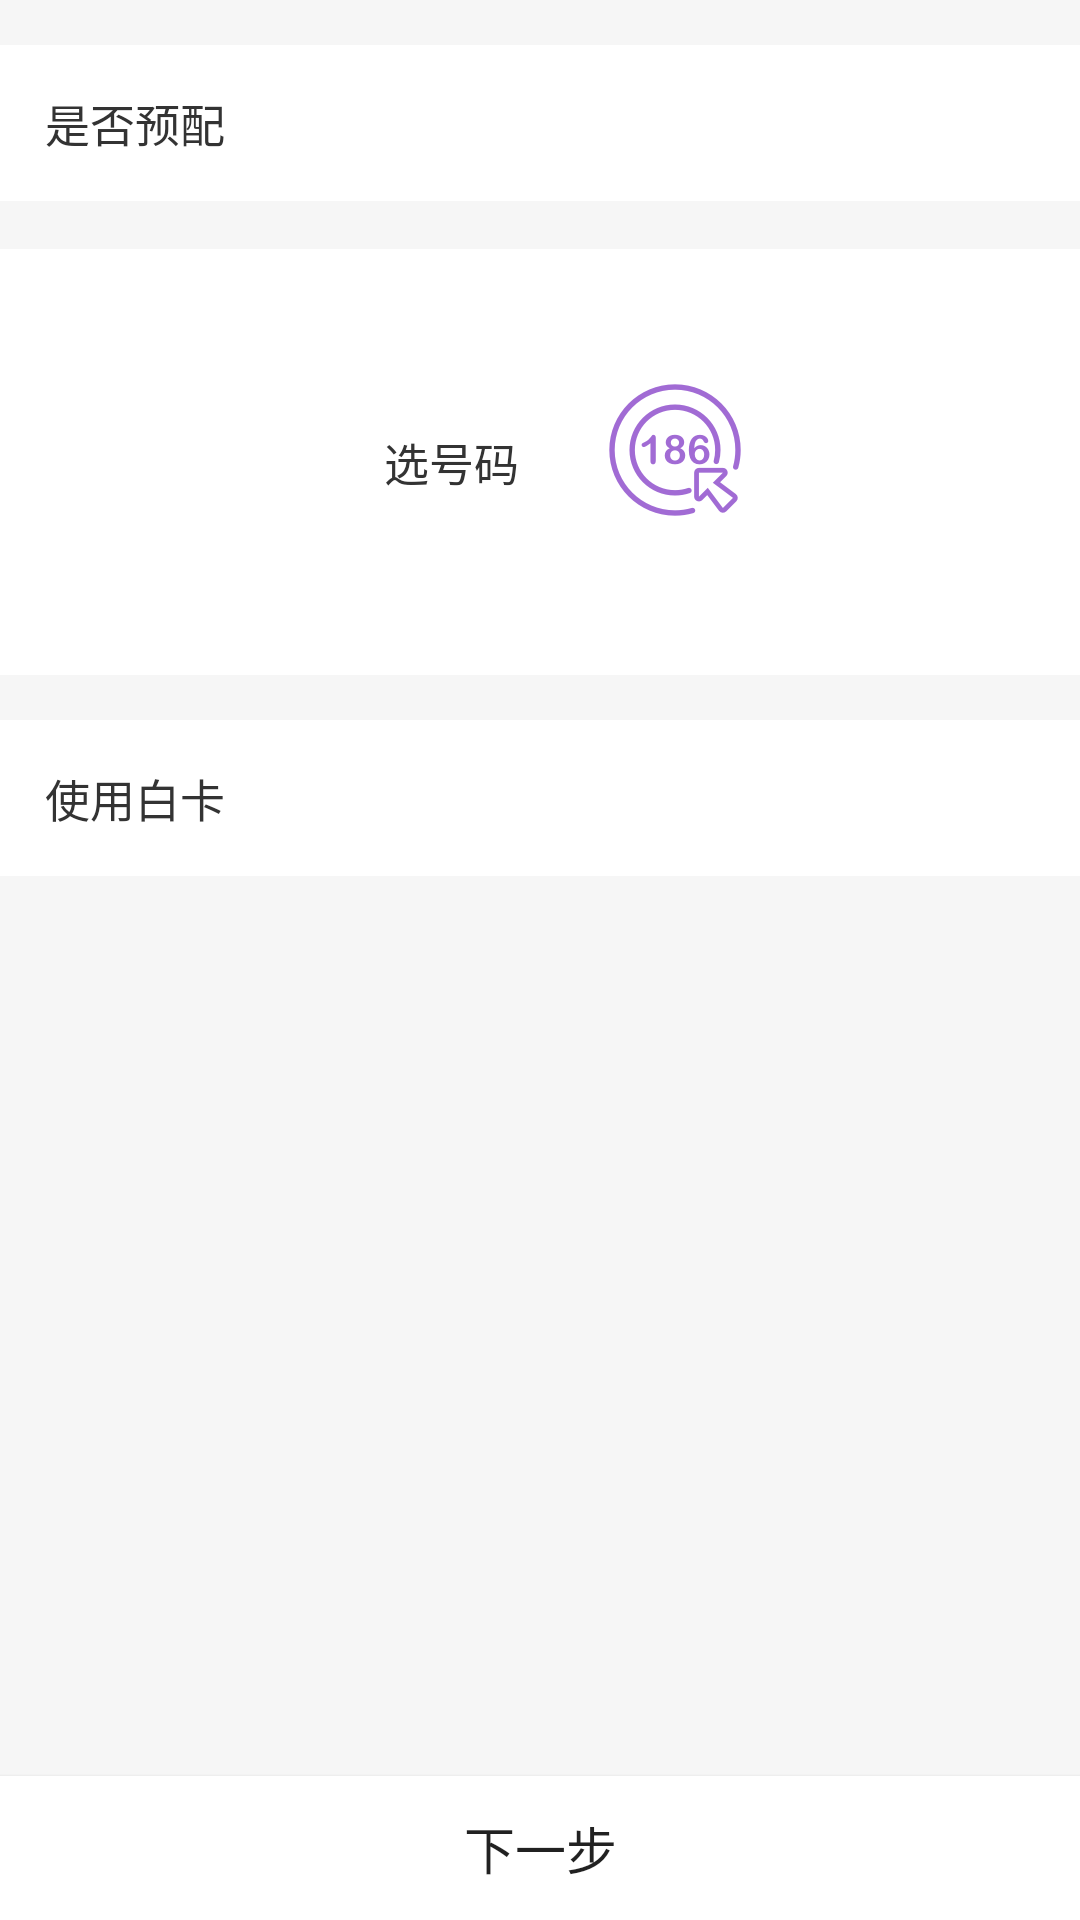

Icons on this 1080w x 1920h Android screen, each with its box as bbox=(x1, y1, x2, y2):
select num: bbox=(609, 384, 741, 516)
